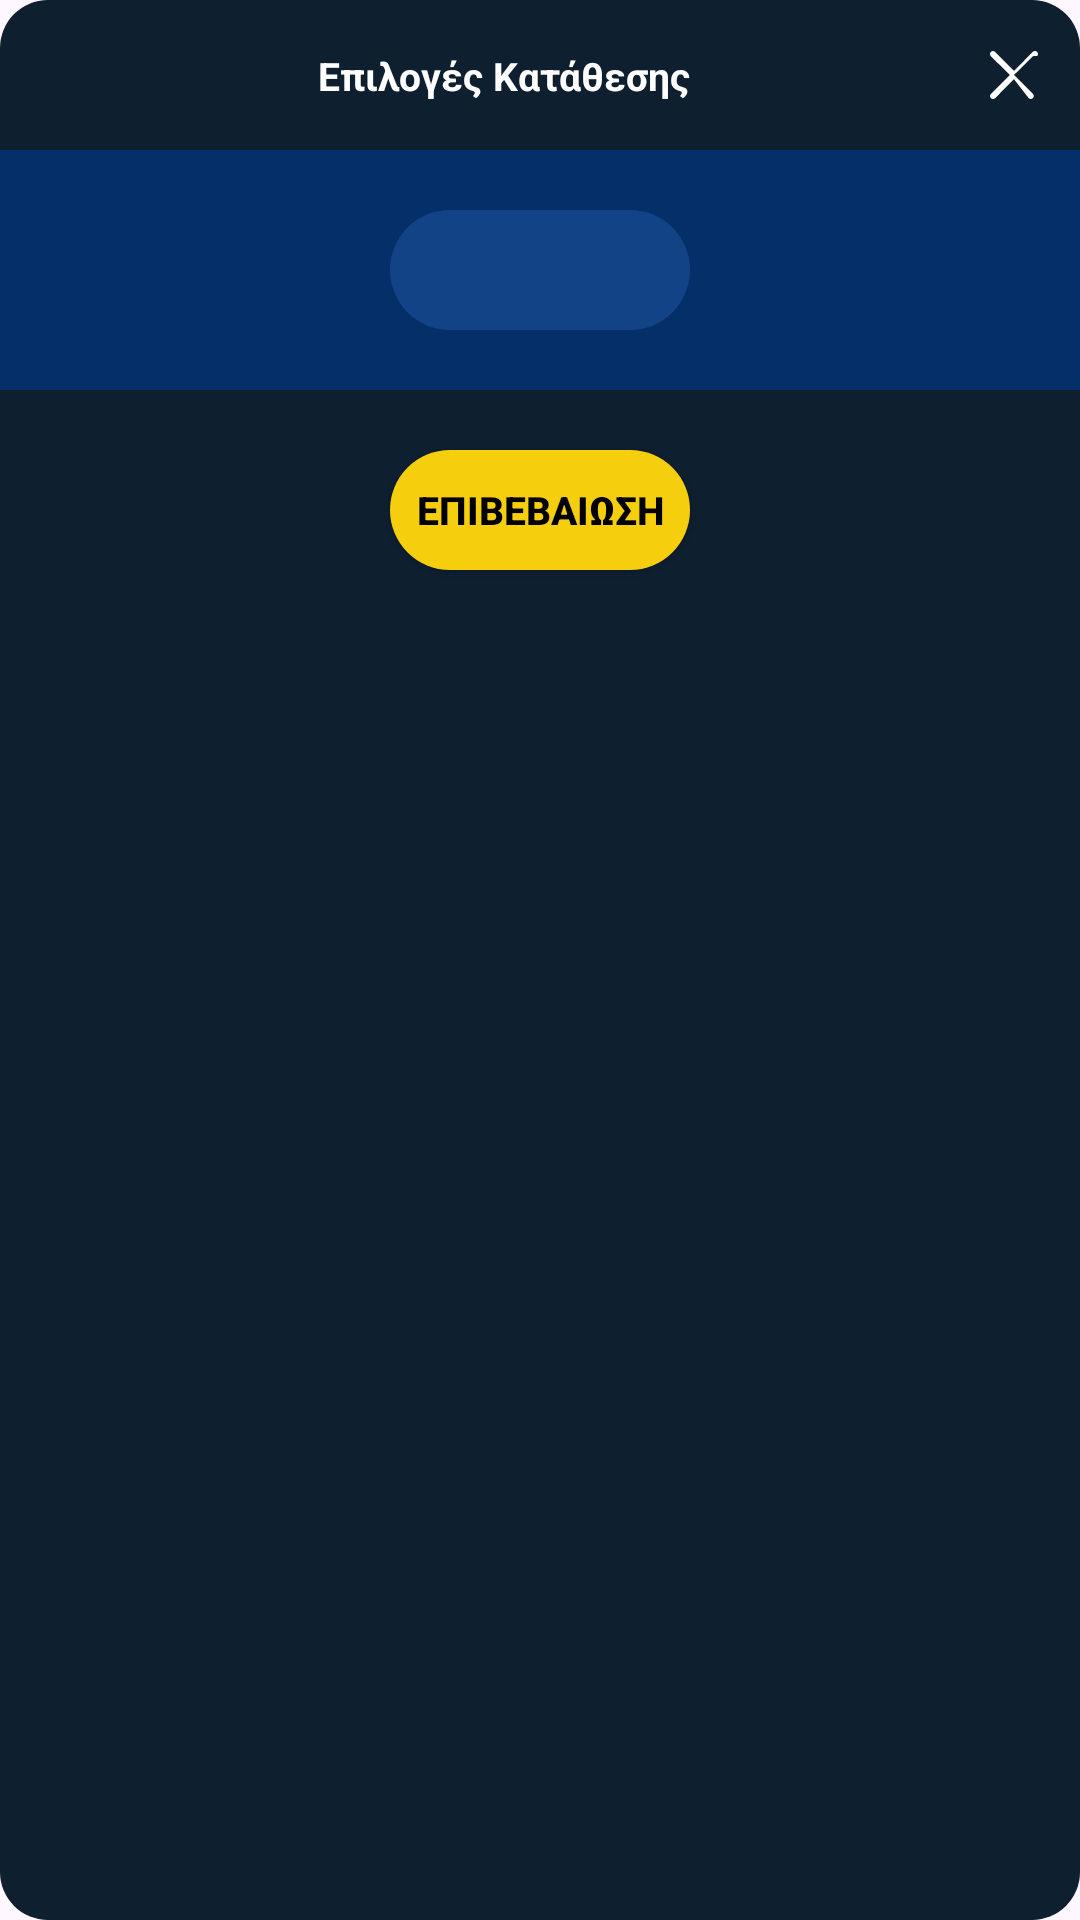

Icon bounding boxes for this 1080 × 1920 phone screenshot, format (x1, y1, x2, y2):
close: (990, 51, 1038, 99)
